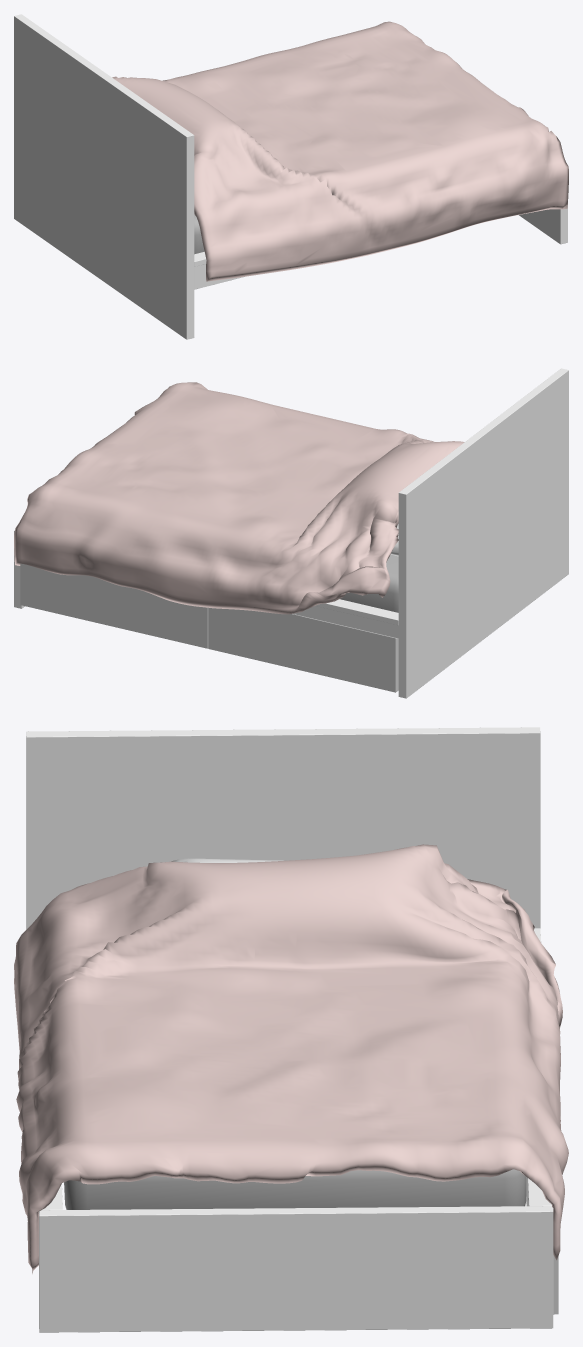
The model's file is bed_ikea.glb.
3 views of the same model, one above another, from view 1: azimuth 30°, elevation 25°; view 2: azimuth 150°, elevation 25°; view 3: azimuth 270°, elevation 25° (orthographic). The views are drawn at different scales.
Visible parts, largest first — view 1: Blanket.001, BedBack, BedFront, BedFrame; view 2: Blanket.001, BedBack, Drawer2, Drawer1, BedFrame, Mattress; view 3: Blanket.001, BedBack, BedFront, Mattress, BedFrame.
Boxes of the visible parts, x1=… form: Blanket.001: x1=112, y1=21, x2=568, y2=281; BedBack: x1=14, y1=14, x2=194, y2=339; BedFront: x1=519, y1=205, x2=567, y2=244; BedFrame: x1=194, y1=251, x2=244, y2=289; Blanket.001: x1=14, y1=382, x2=464, y2=614; BedBack: x1=398, y1=368, x2=568, y2=698; Drawer2: x1=208, y1=607, x2=398, y2=692; Drawer1: x1=20, y1=563, x2=208, y2=648; BedFrame: x1=293, y1=599, x2=398, y2=638; Mattress: x1=340, y1=554, x2=398, y2=612; Blanket.001: x1=14, y1=844, x2=568, y2=1273; BedBack: x1=26, y1=727, x2=540, y2=929; BedFront: x1=39, y1=1206, x2=553, y2=1332; Mattress: x1=64, y1=1169, x2=526, y2=1209; BedFrame: x1=42, y1=928, x2=551, y2=1210.
Bounding box in the file's own units: 2.02 × 1 × 1.61.
